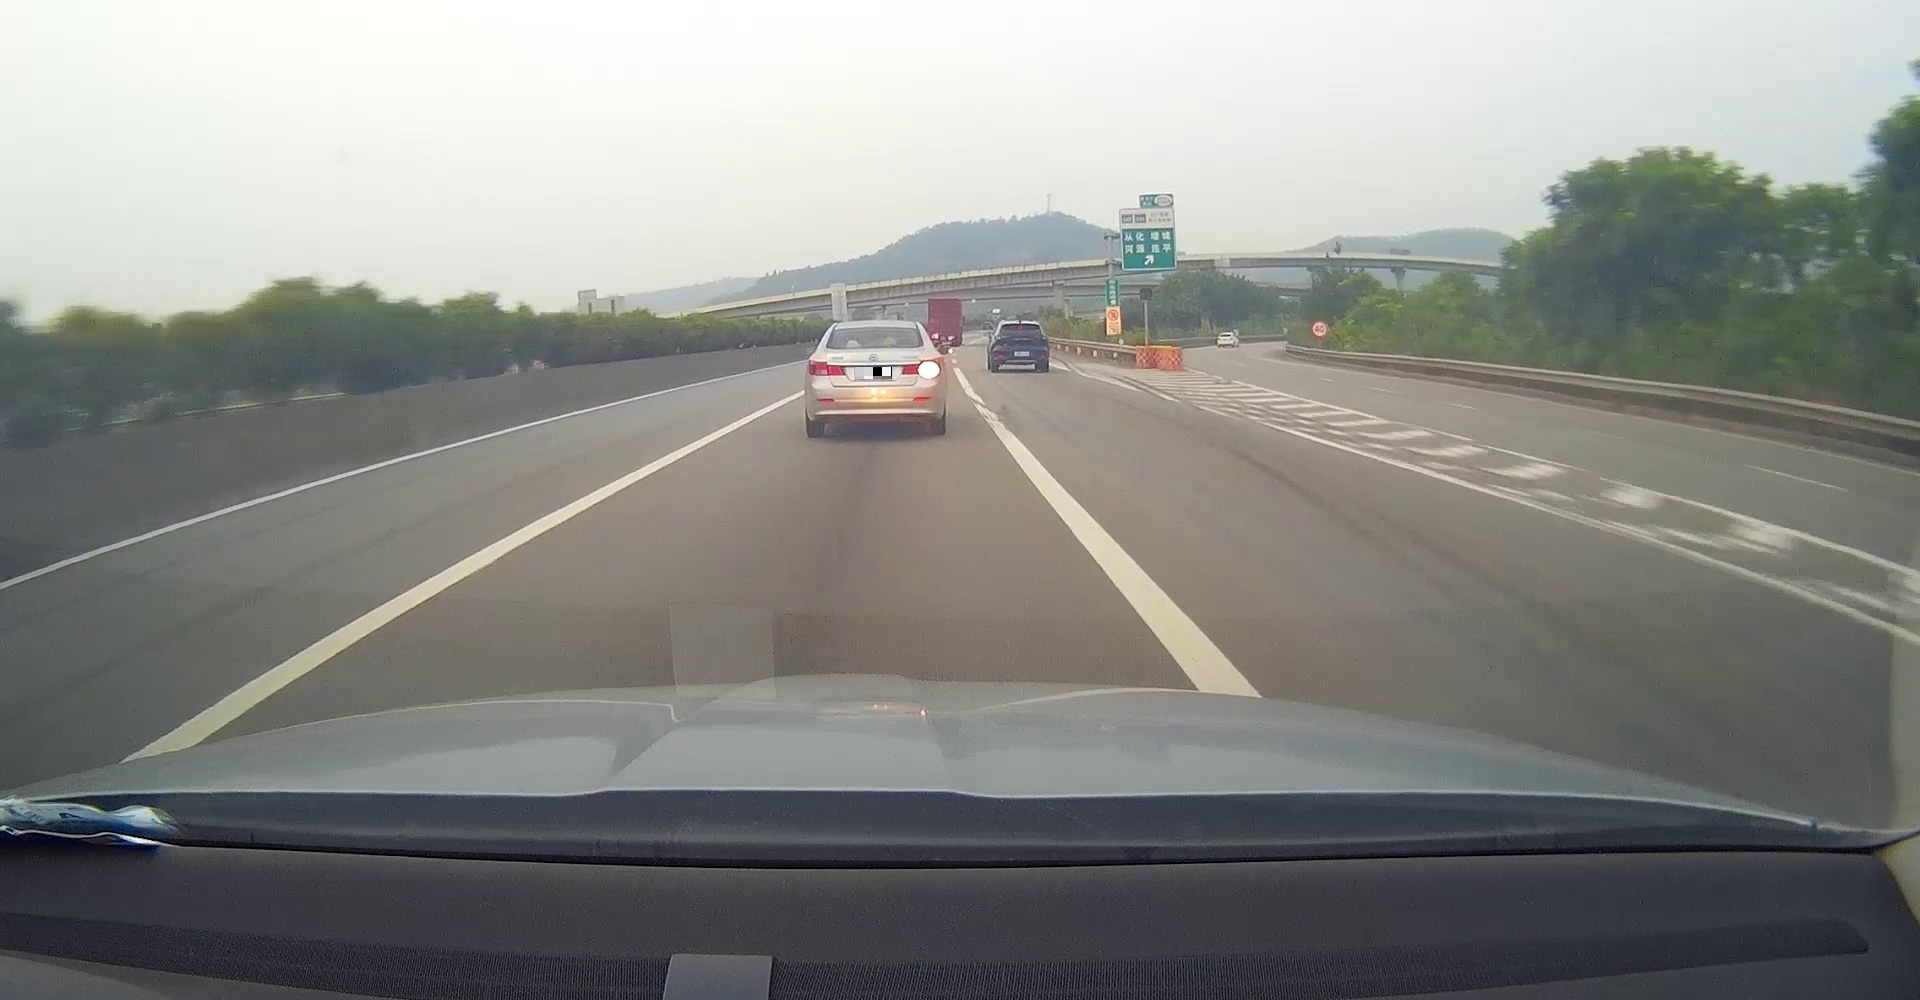L_light: (808, 359, 844, 376), (996, 336, 1010, 340)
R_light: (902, 359, 941, 376), (1035, 335, 1048, 340)
T_light: (867, 326, 881, 331), (1016, 325, 1023, 327)
day-no: (990, 321, 1049, 372)
day-right: (804, 320, 945, 438)
plate_1: (855, 367, 891, 379)
